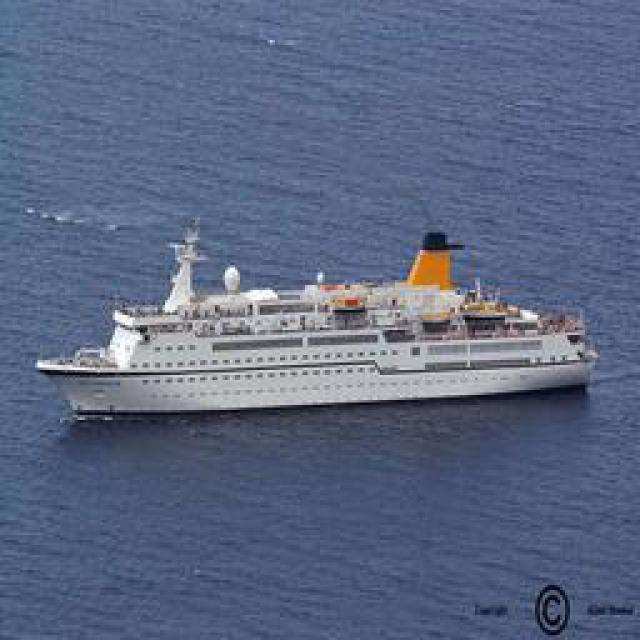Ship: (31, 211, 599, 419)
